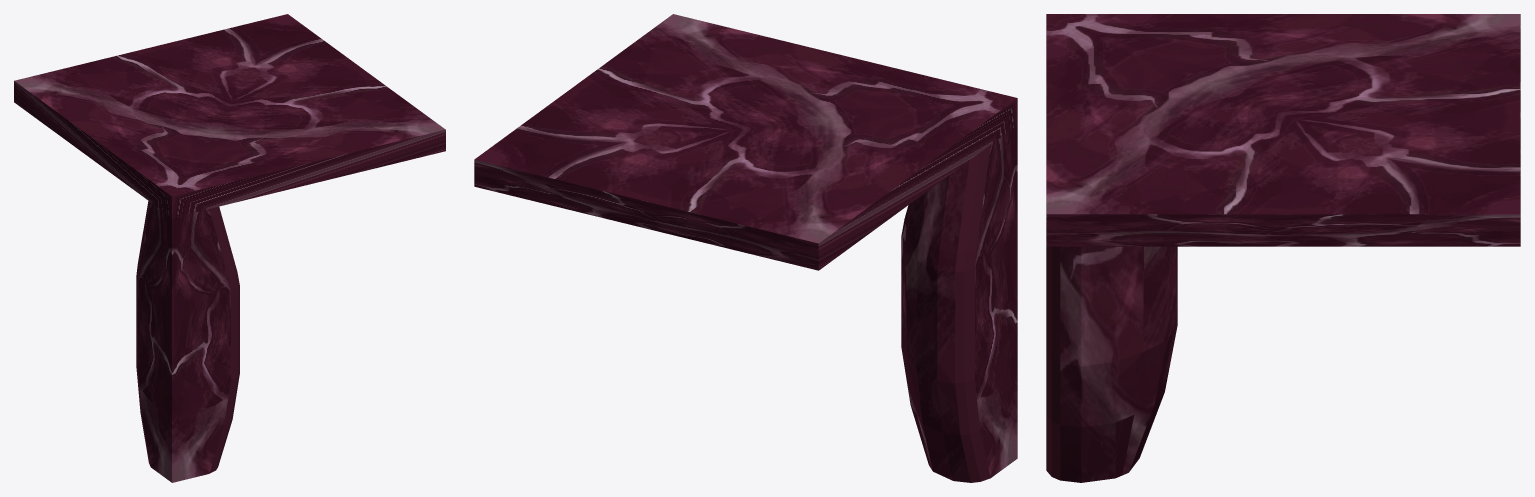
The model's file is EspacioPornoEsquinaAperturaInteriorNI.gltf.
3 views of the same model, side by side, from view 1: azimuth 30°, elevation 25°; view 2: azimuth 150°, elevation 25°; view 3: azimuth 270°, elevation 25° (orthographic). The views are drawn at different scales.
Visible parts, largest first — view 1: Cubo.9; view 2: Cubo.9; view 3: Cubo.9.
Boxes of the visible parts, x1,y1,x2,y2 form: Cubo.9: [14, 14, 445, 482]; Cubo.9: [474, 14, 1017, 482]; Cubo.9: [1046, 14, 1520, 482].
Bounding box in the file's own units: 2 × 2 × 2.
Materials: 1 (1 with a texture image).
